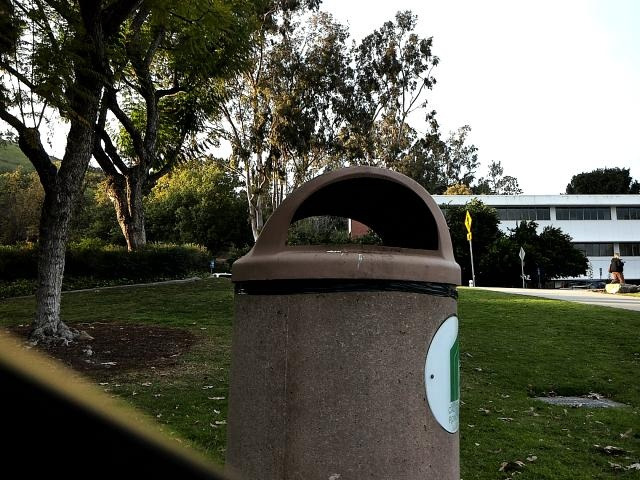trashcan: (225, 162, 489, 480)
